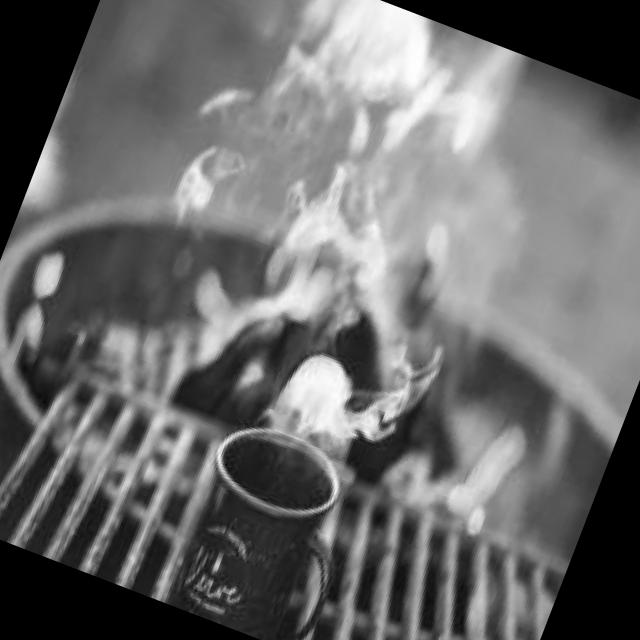fire: (232, 320, 418, 503), (438, 365, 560, 539), (0, 225, 83, 361)
